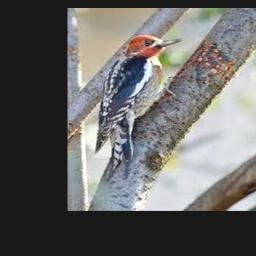Woodpecker: (95, 35, 182, 181)
